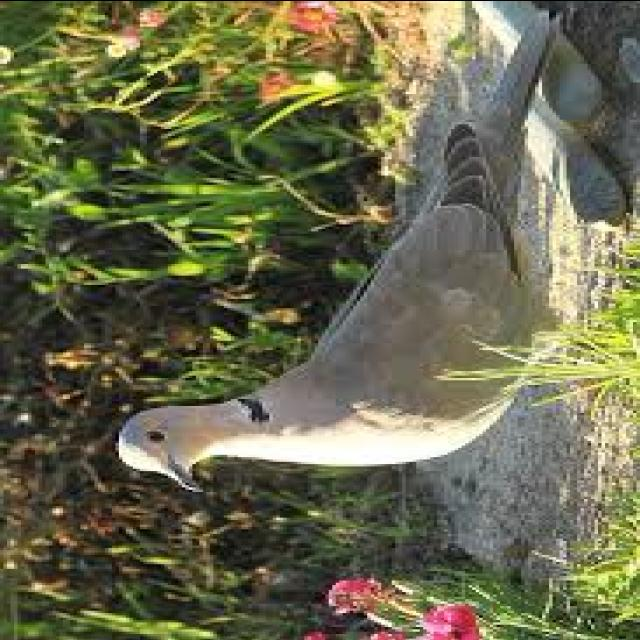pigeon: (87, 0, 595, 502)
